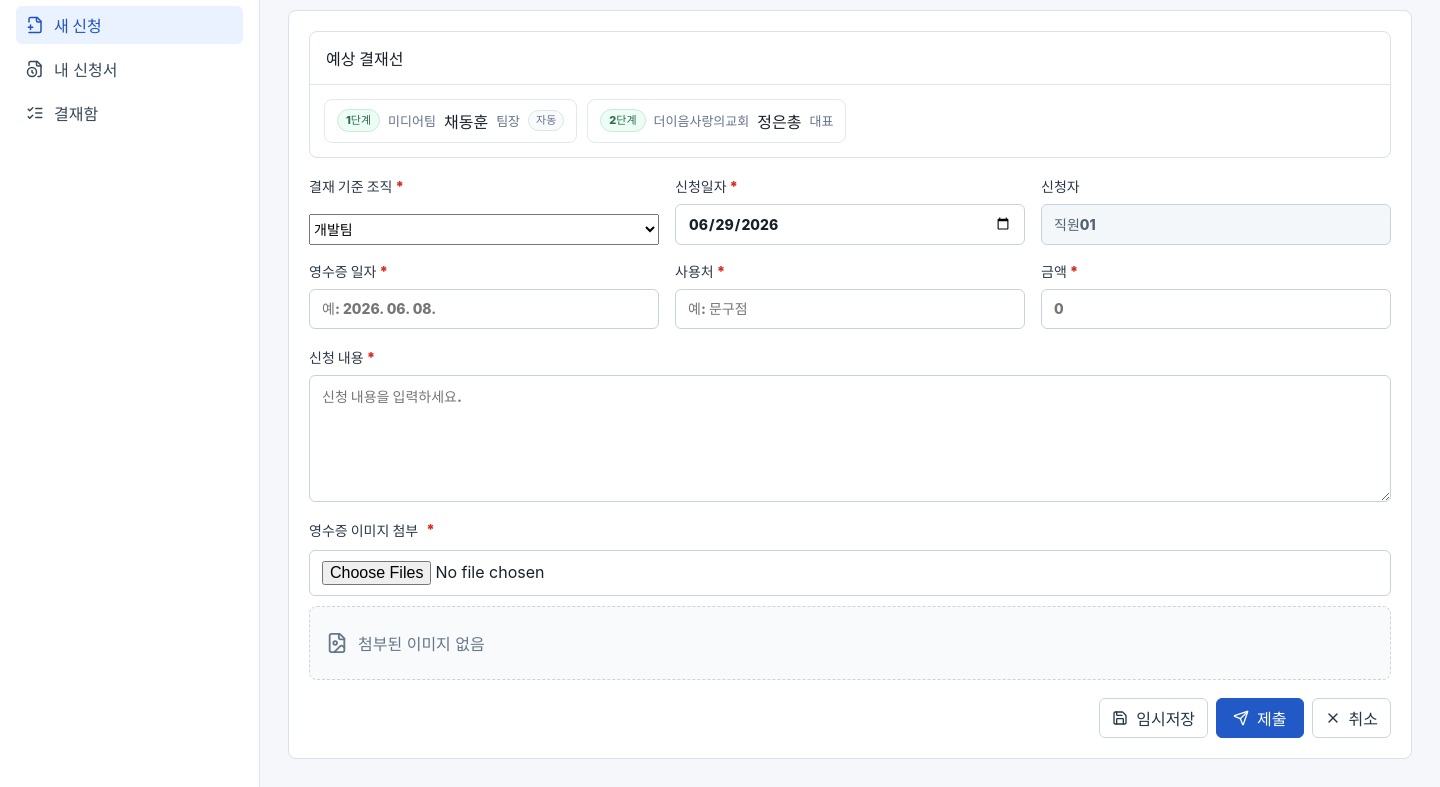
Test: ApplicationForm › 필수 항목별 제출 차단 사유를 보여준다
The width and height of the screenshot is (1440, 787).
(page scrolled)
Click the button "제출": [1260, 718] box [1216,698,1304,738]
(page scrolled)
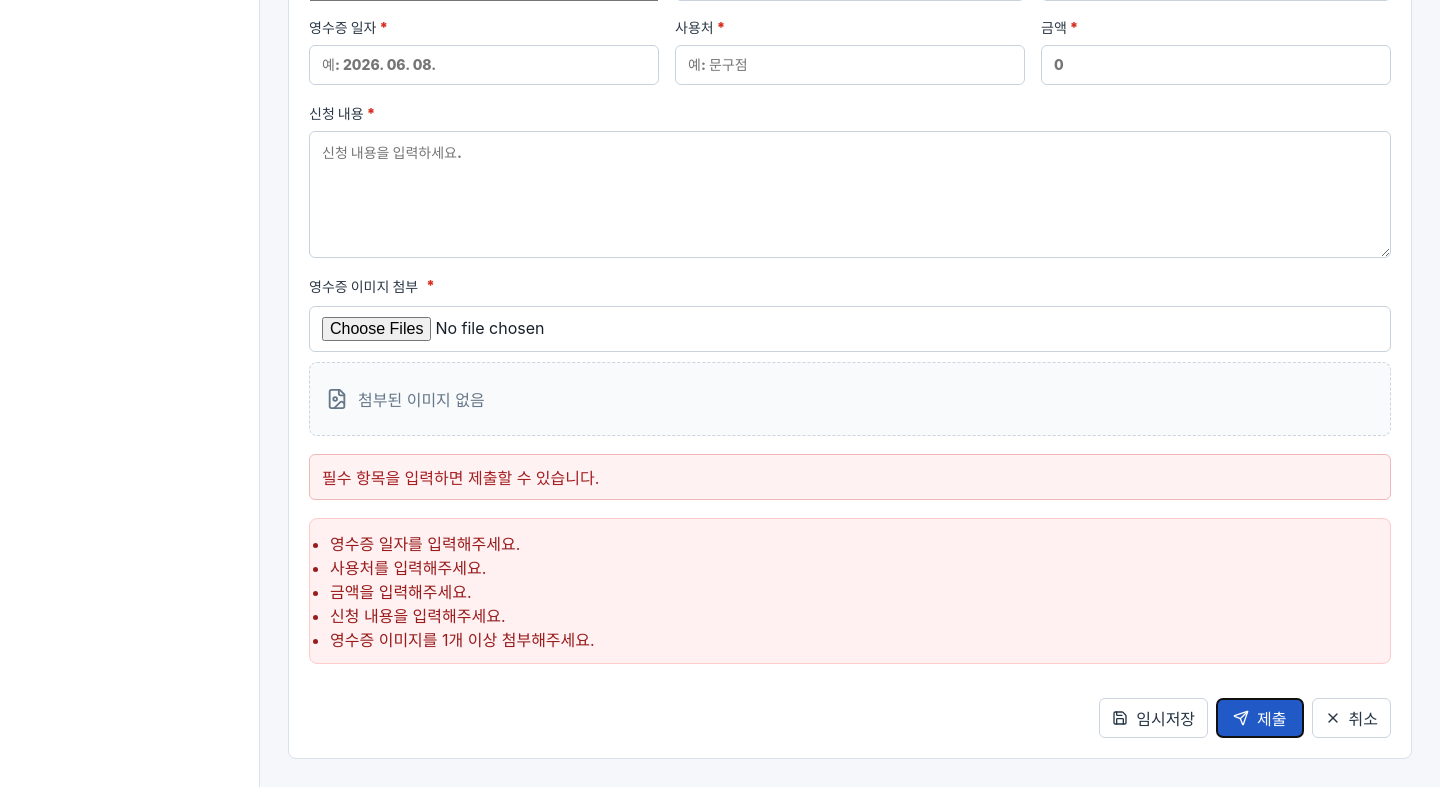
Expected: the message reads "필수 항목을 입력하면 제출할 수 있습니다.", [322,468,599,488]
Expected: the list item "영수증 일자를 입력해주세요." is shown, [330,534,520,554]
Expected: the list item "사용처를 입력해주세요." is shown, [330,558,486,578]
